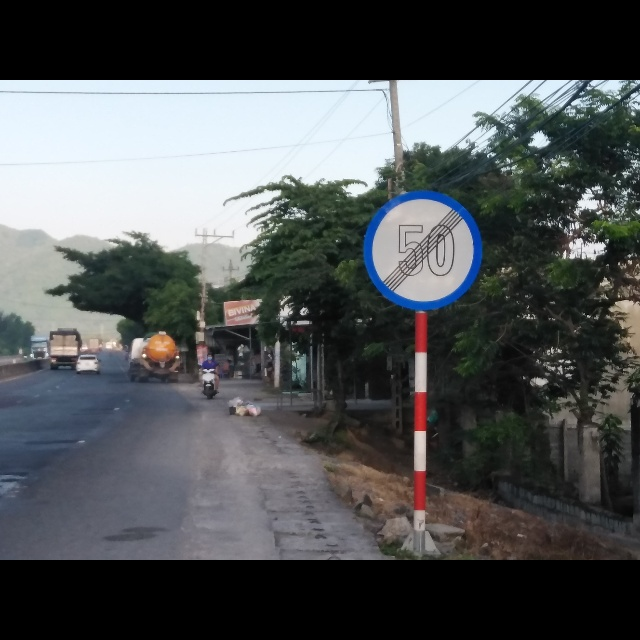Hết hạn chế tốc độ tối đa 50km/h: (358, 187, 483, 311)
